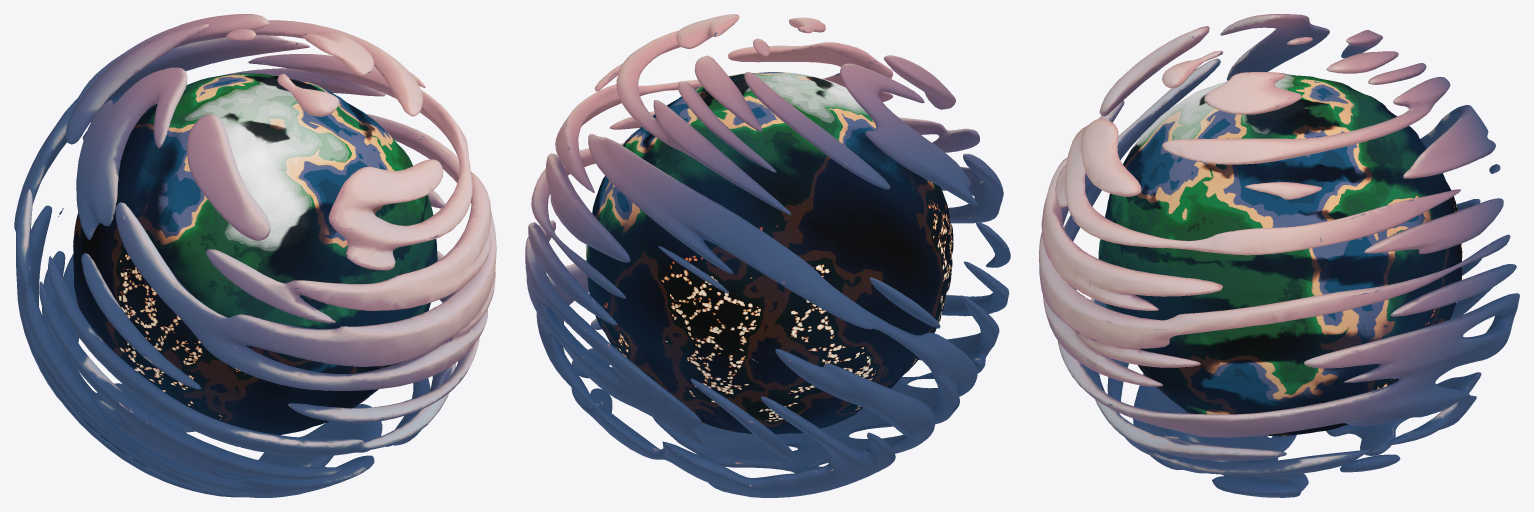
The model's file is planet2.gltf.
3 renders of one model, left to right at view 1: azimuth 30°, elevation 25°; view 2: azimuth 150°, elevation 25°; view 3: azimuth 270°, elevation 25°, orthographic.
Visible parts, largest first — view 1: Clouds_1, Planet_2; view 2: Clouds_1, Planet_2; view 3: Clouds_1, Planet_2.
Boxes of the visible parts, <box> form: Clouds_1: <box>14,14,496,497</box>; Planet_2: <box>73,73,437,435</box>; Clouds_1: <box>525,14,1010,497</box>; Planet_2: <box>586,72,953,434</box>; Clouds_1: <box>1039,14,1519,497</box>; Planet_2: <box>1098,73,1462,436</box>.
Size of the model in its own units: 1.74 by 1.74 by 1.74.
Materials: 2 (2 with a texture image).
